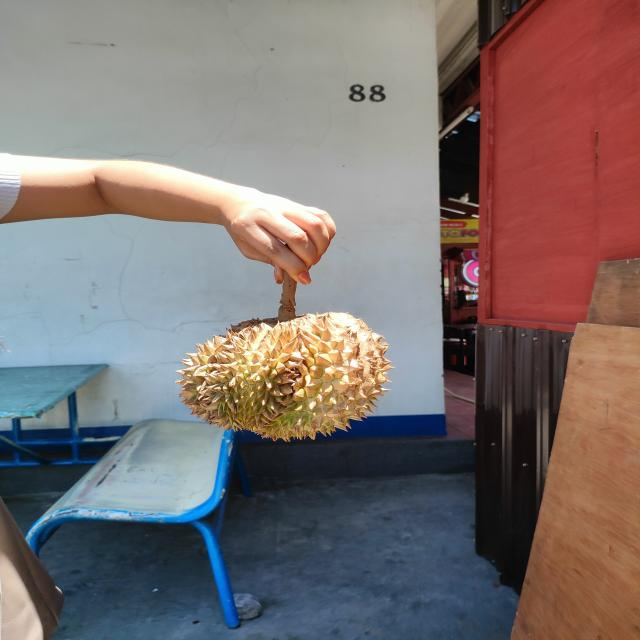mature: (173, 308, 394, 442)
